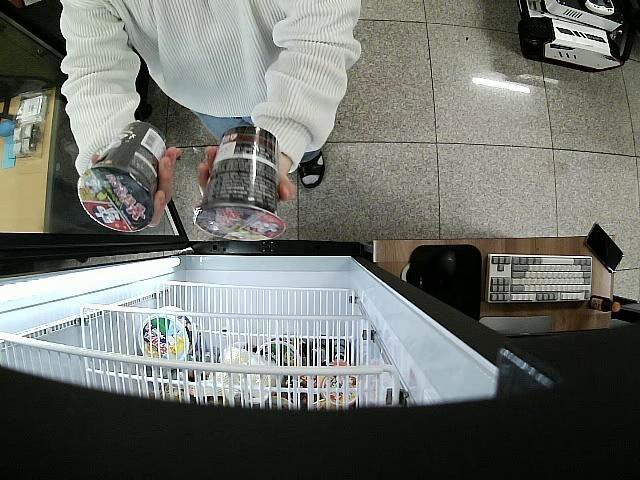08_buldak_S: (192, 127, 286, 238), (76, 123, 170, 232)
